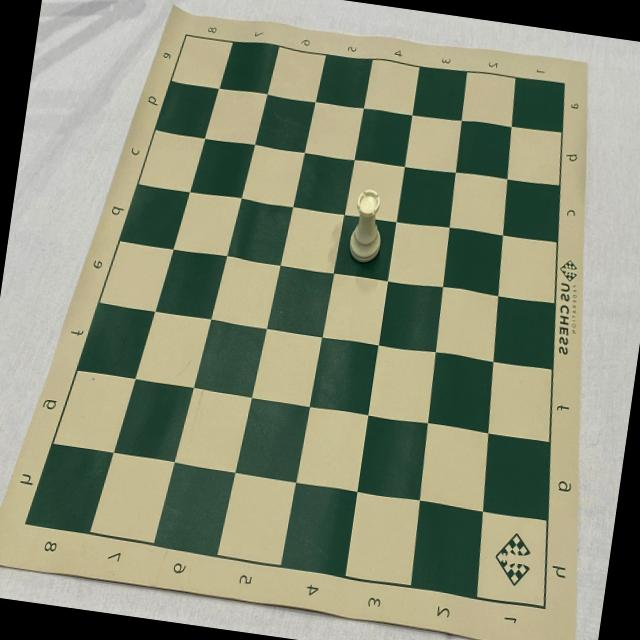white-rook: (346, 188, 389, 266)
